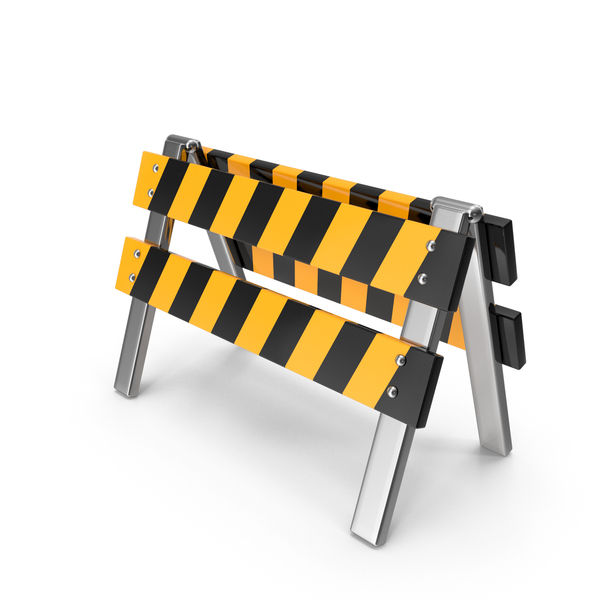Barrier: (84, 121, 535, 553)
